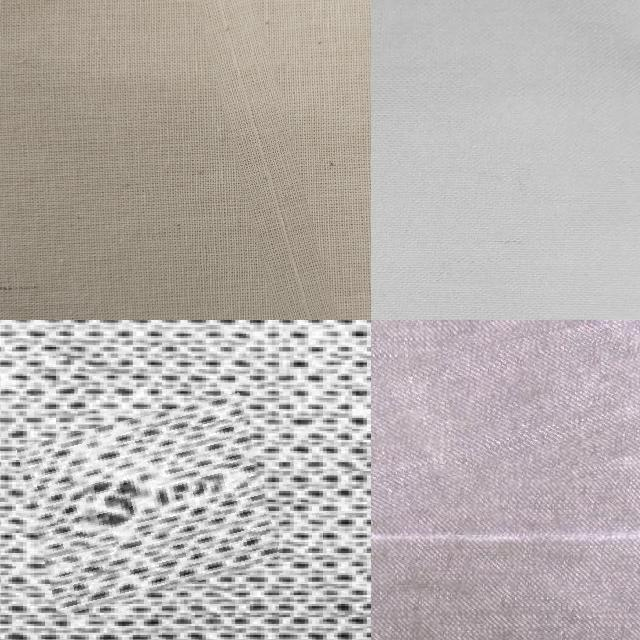Hole: (466, 191, 612, 320)
Thread_other: (371, 320, 640, 541), (206, 0, 341, 320)
seam: (25, 403, 273, 603)
